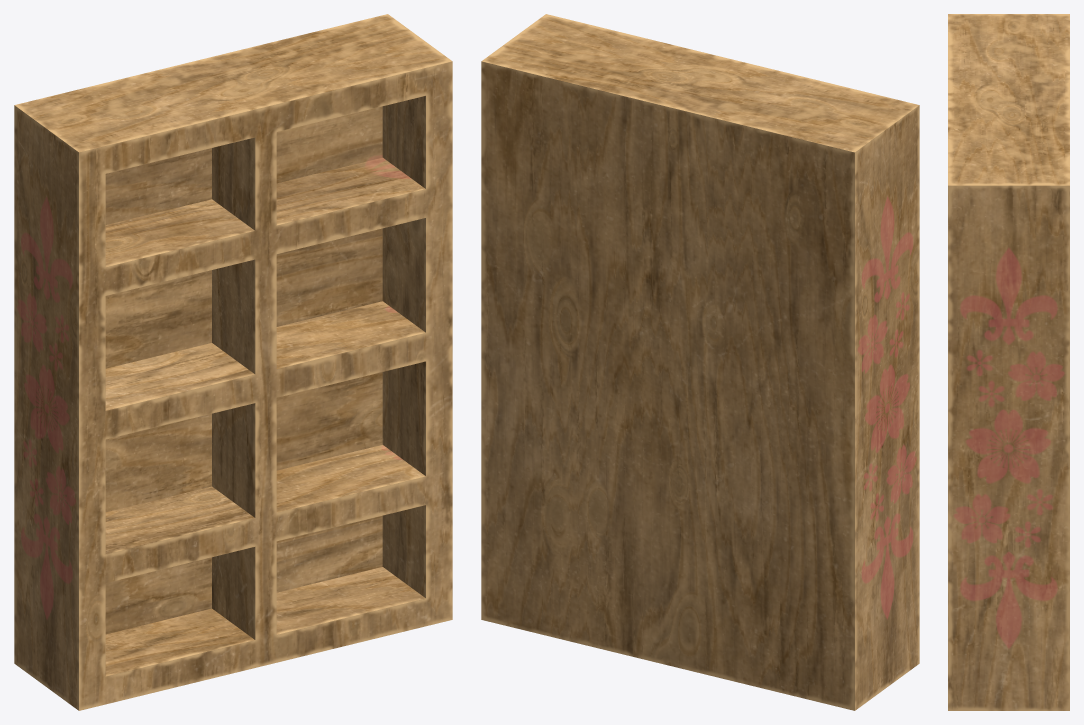
The model's file is bookshelf.glb.
3 views of the same model, side by side, from view 1: azimuth 30°, elevation 25°; view 2: azimuth 150°, elevation 25°; view 3: azimuth 270°, elevation 25° (orthographic). The views are drawn at different scales.
Parts seen in each view (by area): view 1: bookshelf; view 2: bookshelf; view 3: bookshelf.
Part boxes in pixels (bbox=[...]): bookshelf: bbox=[14, 14, 452, 710]; bookshelf: bbox=[481, 14, 919, 710]; bookshelf: bbox=[948, 14, 1069, 710].
Bounding box in the file's own units: 1.4 × 2 × 0.42.
Materials: 1 (1 with a texture image).
